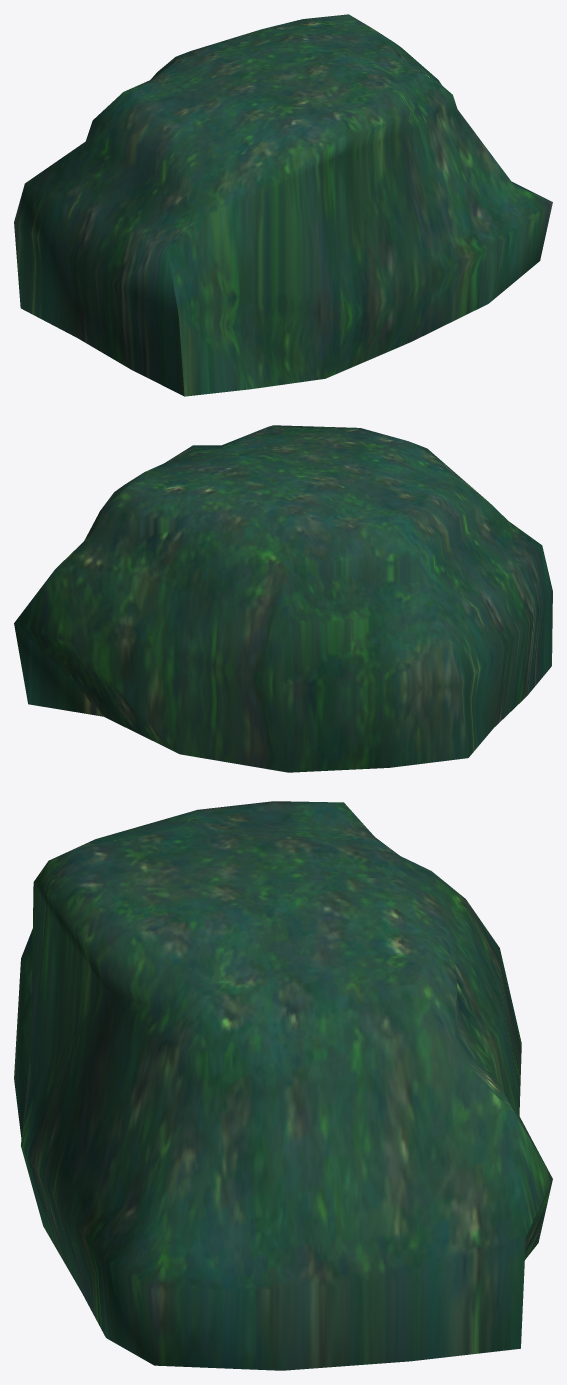
Rendered from MIRKWOOD_MIRK_PLAYSURFACE51.fbx.
The picture shows the model from 3 angles, top to bottom: view 1: azimuth 30°, elevation 25°; view 2: azimuth 150°, elevation 25°; view 3: azimuth 270°, elevation 25°; orthographic projection. The views are drawn at different scales.
Visible parts, largest first — view 1: MIRKWOOD_MIRK_PLAYSURFACE51; view 2: MIRKWOOD_MIRK_PLAYSURFACE51; view 3: MIRKWOOD_MIRK_PLAYSURFACE51.
Boxes of the visible parts, left/top/right/bottom form: MIRKWOOD_MIRK_PLAYSURFACE51: left=14, top=14, right=552, bottom=396; MIRKWOOD_MIRK_PLAYSURFACE51: left=14, top=425, right=552, bottom=772; MIRKWOOD_MIRK_PLAYSURFACE51: left=14, top=801, right=552, bottom=1370.
Bounding box in the file's own units: 58493 × 31111 × 40552.
Materials: 1 (1 with a texture image).
